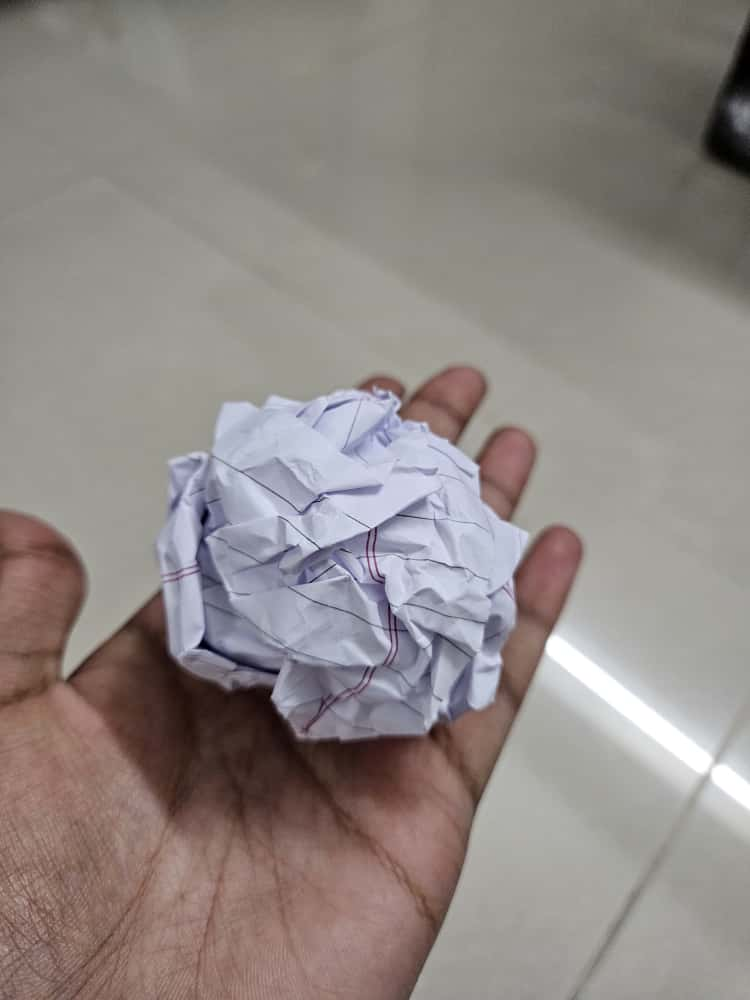dry: (121, 352, 571, 775)
